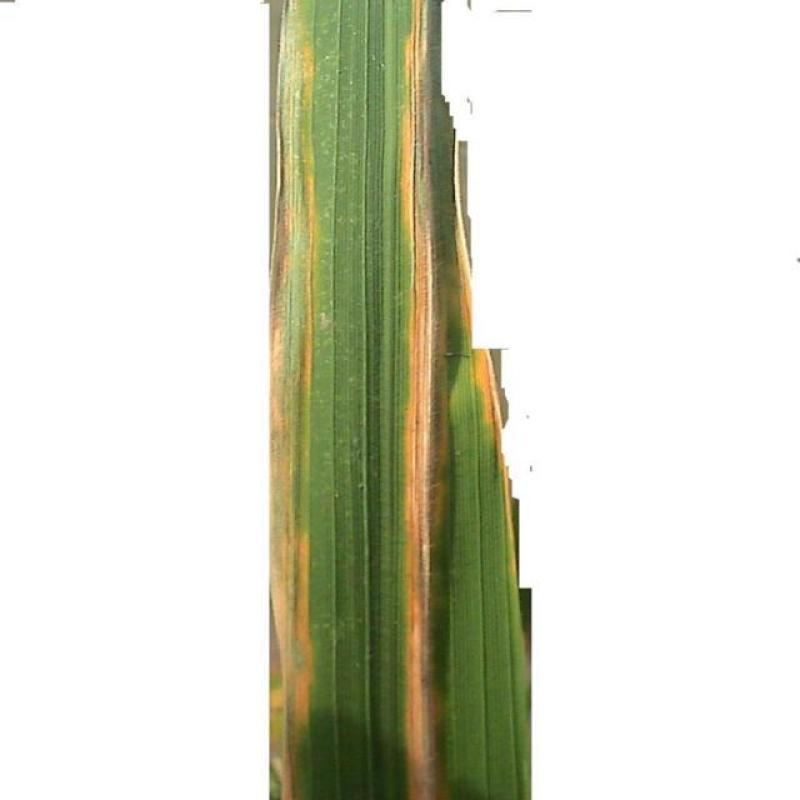Bacterial_Leaf_Blight: (370, 0, 510, 800), (230, 0, 339, 800)
